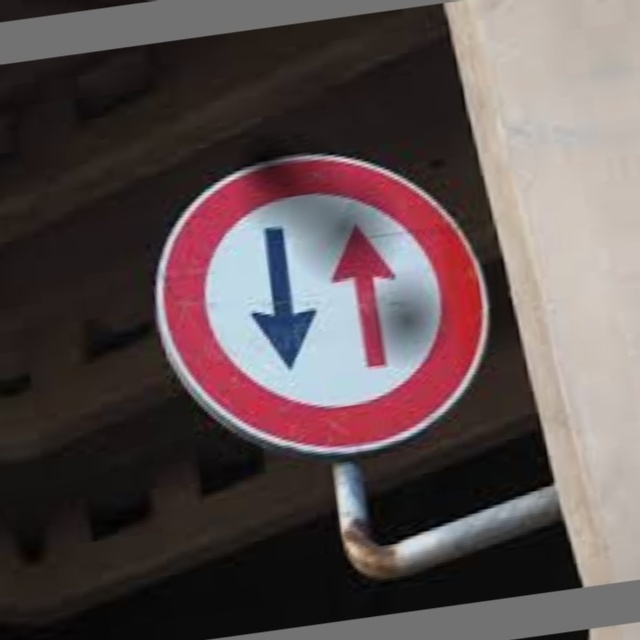Mandatory_Two_Way_Traffic: (140, 131, 521, 467)
